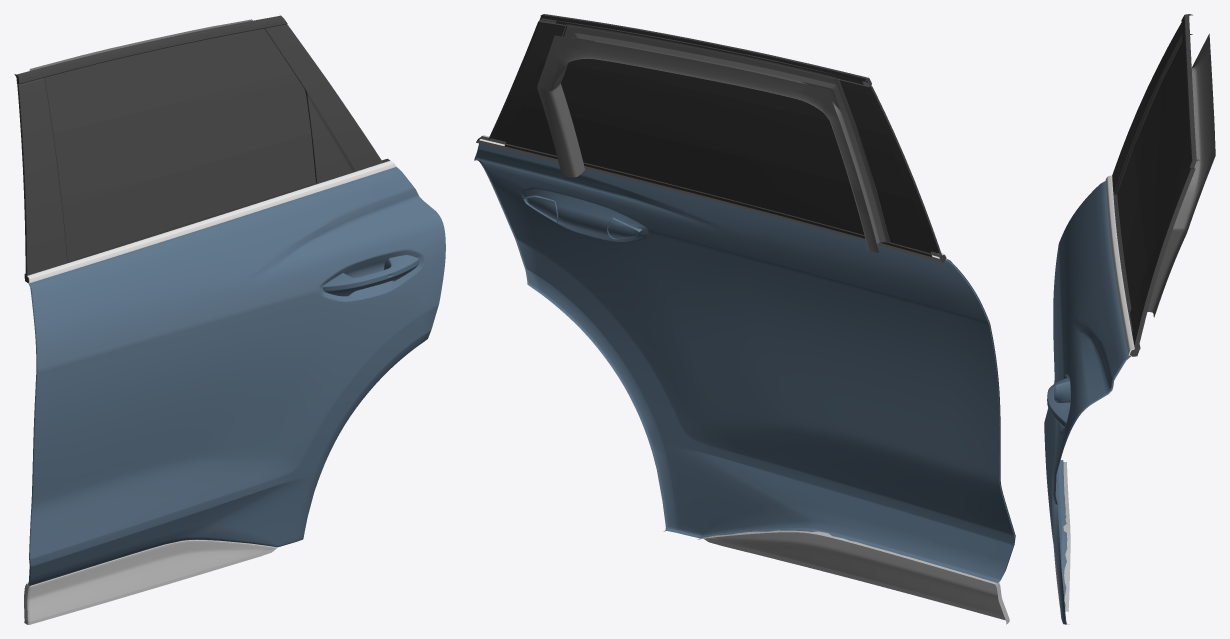
Rendered from zhcm.glb.
3 renders of one model, left to right at view 1: azimuth 30°, elevation 25°; view 2: azimuth 150°, elevation 25°; view 3: azimuth 270°, elevation 25°, orthographic. The views are drawn at different scales.
Parts seen in each view (by area): view 1: polySurface13; view 2: polySurface13; view 3: polySurface13.
Part boxes in pixels (left/top/right/bottom): polySurface13: left=14, top=15, right=445, bottom=624; polySurface13: left=474, top=14, right=1015, bottom=624; polySurface13: left=1044, top=14, right=1215, bottom=624.
Size of the model in its own units: 1.04 by 1.13 by 0.3443.
